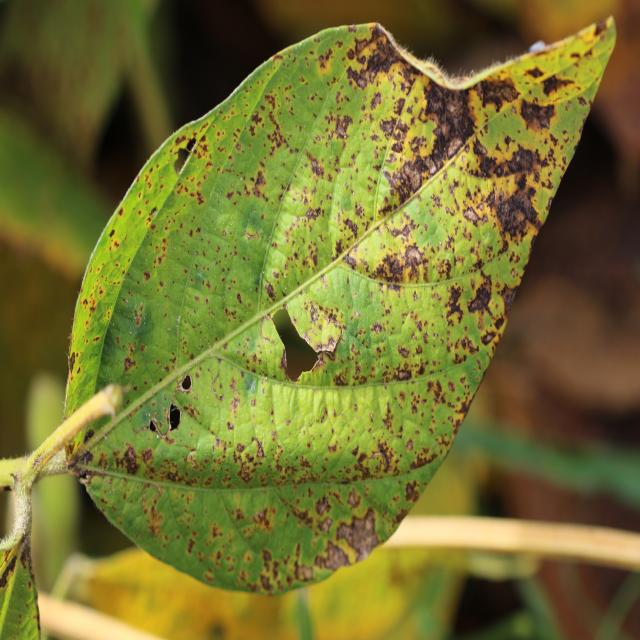Bacterial_Blight: (378, 148, 430, 209), (492, 181, 541, 242), (351, 32, 401, 87), (333, 506, 381, 563), (374, 248, 419, 284), (258, 546, 291, 589), (262, 110, 292, 157), (519, 96, 556, 132), (149, 400, 183, 439), (481, 79, 520, 110), (142, 486, 165, 538), (111, 442, 142, 478), (466, 279, 493, 320), (321, 539, 349, 572), (241, 167, 268, 201), (444, 283, 465, 325), (509, 146, 538, 175), (475, 150, 500, 180), (500, 284, 519, 319), (69, 448, 95, 471), (252, 506, 272, 529), (334, 114, 351, 139), (381, 401, 395, 431), (210, 369, 223, 401), (309, 157, 326, 179), (315, 494, 332, 516), (342, 217, 358, 240), (295, 563, 314, 582), (463, 206, 480, 225), (380, 117, 396, 137), (404, 480, 419, 501), (264, 279, 277, 303), (347, 487, 361, 507), (481, 330, 498, 346), (252, 439, 265, 459), (212, 437, 227, 454), (594, 19, 609, 36), (133, 306, 145, 327), (179, 374, 193, 392), (141, 446, 154, 465), (229, 396, 241, 416), (211, 523, 223, 540), (123, 356, 135, 372), (397, 345, 410, 359), (397, 368, 411, 381), (69, 351, 77, 373), (427, 159, 438, 175), (186, 137, 197, 153), (245, 230, 260, 241), (83, 428, 94, 442), (187, 538, 196, 555), (149, 418, 158, 434), (372, 321, 382, 335), (447, 381, 455, 392), (143, 270, 150, 282), (236, 293, 243, 305), (109, 228, 115, 238), (510, 268, 516, 278)
Soybean: (37, 19, 617, 600)
